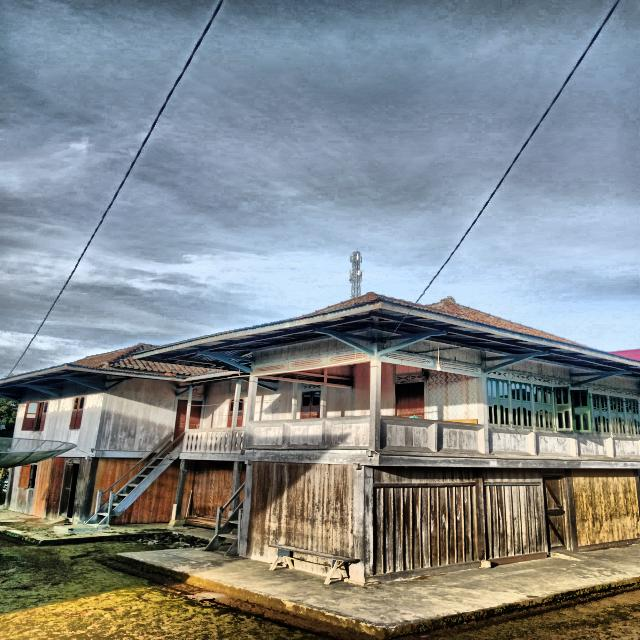column: (354, 466, 373, 582), (239, 460, 253, 557), (79, 457, 99, 524), (564, 469, 579, 553), (474, 467, 487, 560), (172, 459, 189, 520)
door: (543, 477, 567, 551), (60, 463, 80, 518), (173, 399, 188, 441), (189, 401, 202, 429)
ornamen: (380, 419, 435, 451), (438, 424, 485, 453), (325, 419, 370, 449), (488, 428, 535, 455), (284, 421, 323, 448), (536, 432, 576, 456), (247, 423, 283, 448), (577, 435, 614, 457), (613, 437, 640, 458)
roof: (134, 292, 640, 382), (70, 343, 219, 377)
stair: (85, 431, 185, 526), (202, 481, 245, 556)
wall: (374, 466, 478, 575), (246, 462, 357, 563), (487, 360, 576, 460), (571, 375, 640, 462), (99, 377, 178, 451), (482, 468, 544, 560), (381, 362, 478, 420), (571, 469, 640, 547), (111, 457, 181, 524), (45, 381, 105, 451), (300, 361, 370, 418), (90, 458, 143, 518), (181, 460, 234, 519), (47, 457, 88, 523), (9, 458, 52, 517), (15, 390, 58, 440), (203, 380, 237, 428), (254, 380, 293, 421)
window: (553, 387, 592, 433), (487, 377, 511, 428), (395, 382, 425, 419), (510, 381, 533, 429), (533, 384, 555, 431), (21, 401, 49, 431), (592, 393, 611, 435), (609, 396, 628, 436), (69, 395, 86, 429), (625, 398, 640, 436), (301, 391, 321, 419), (227, 397, 245, 427), (17, 464, 37, 488)
